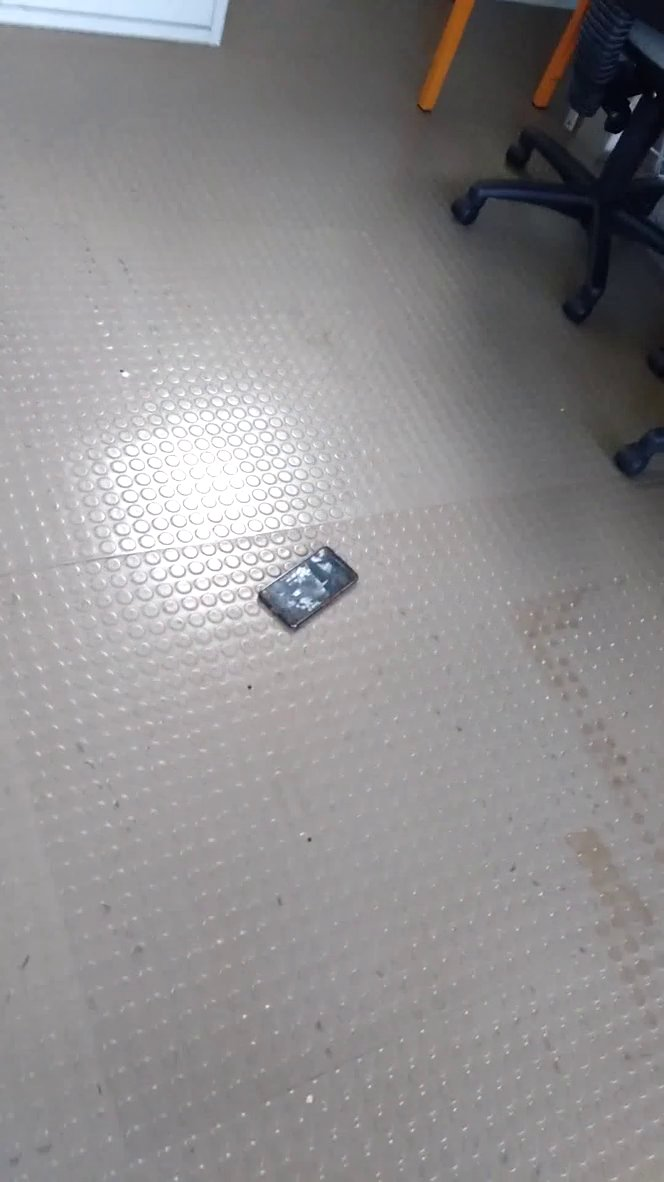phone: (243, 529, 371, 650)
